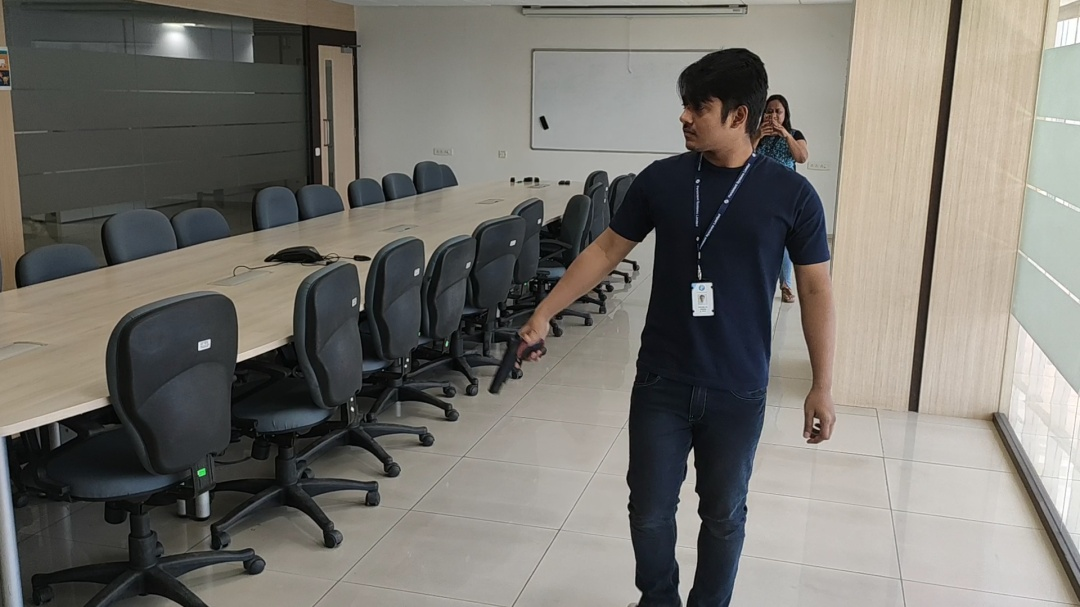gun: (487, 333, 528, 400)
